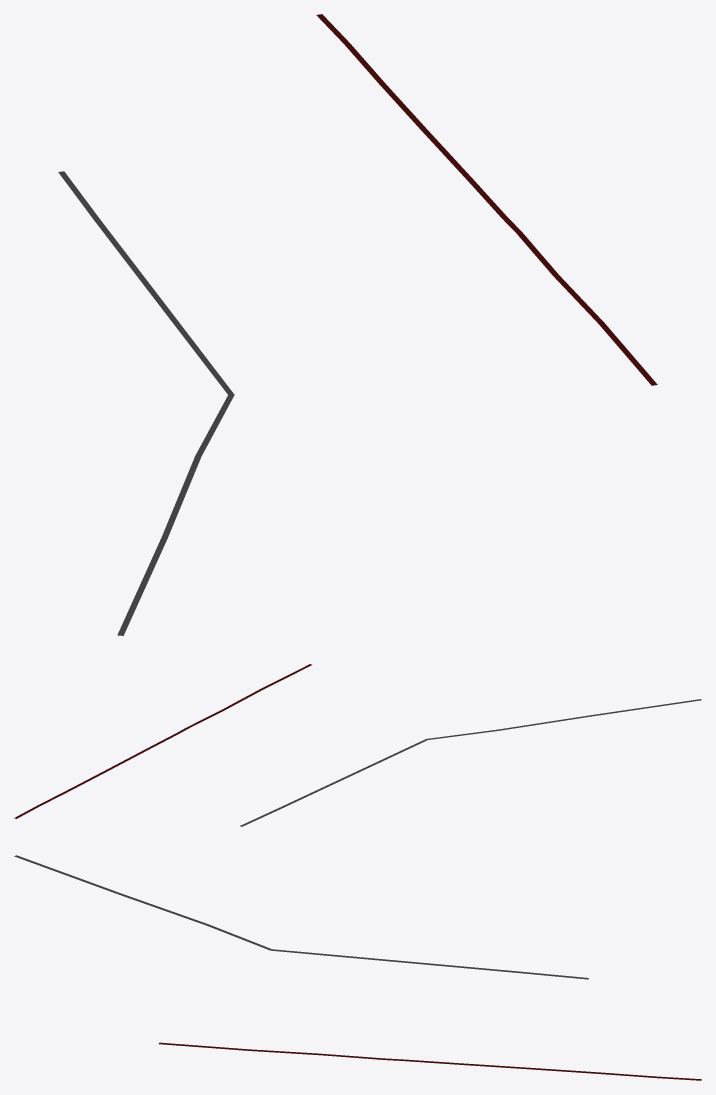
3 views of the same model, one above another, from view 1: azimuth 30°, elevation 25°; view 2: azimuth 150°, elevation 25°; view 3: azimuth 270°, elevation 25° (orthographic). The views are drawn at different scales.
Bounding box in the file's own units: 560 × 0 × 721.
